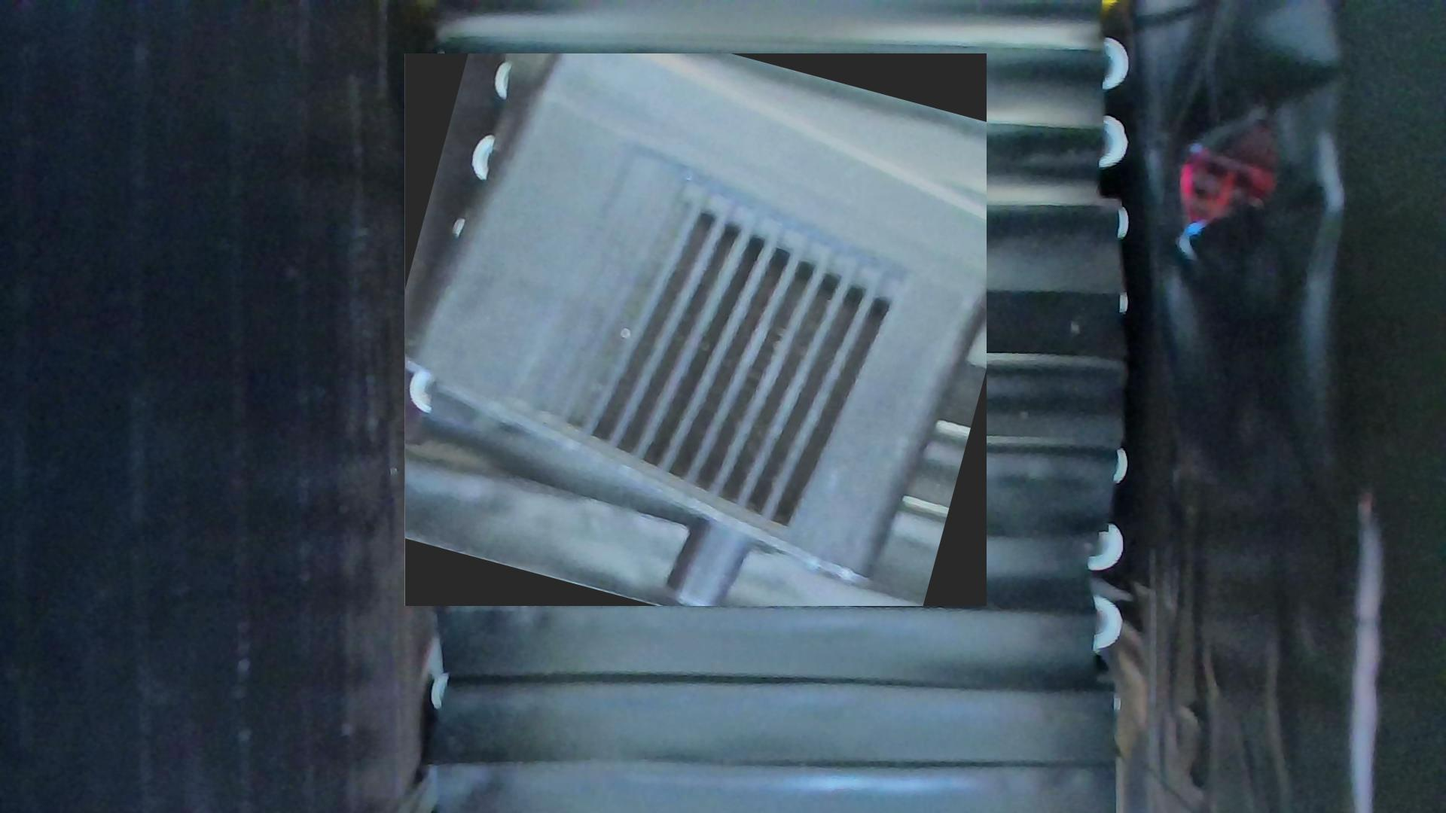motor: (404, 54, 986, 606)
